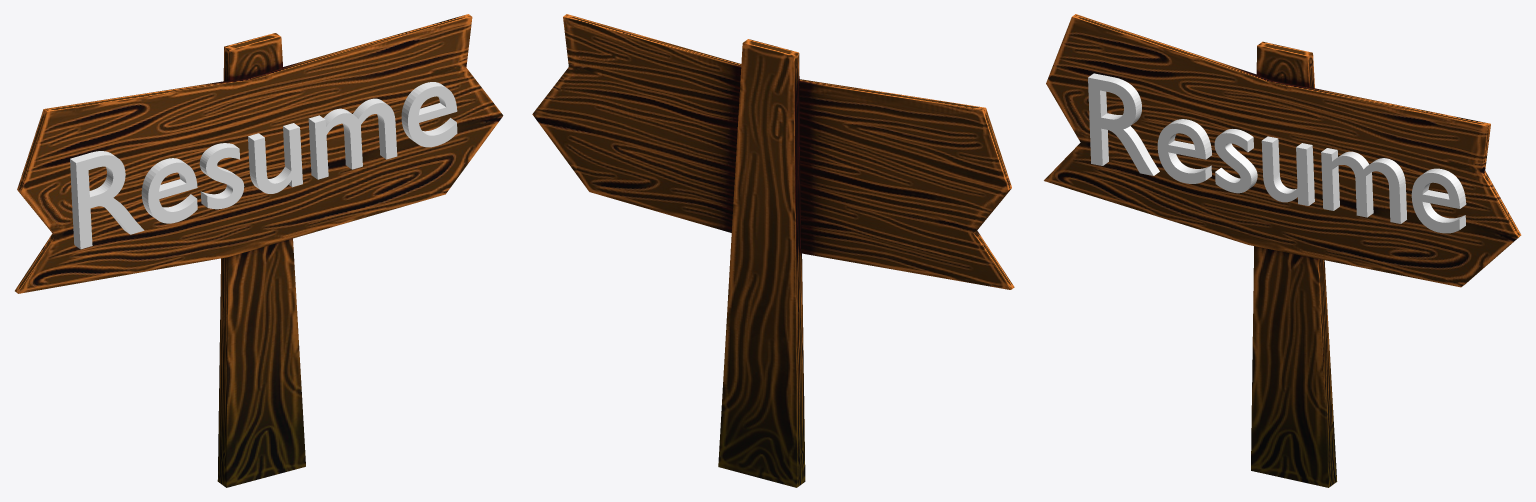
File: resume.glb
3 views of the same model, side by side, from view 1: azimuth 30°, elevation 25°; view 2: azimuth 150°, elevation 25°; view 3: azimuth 330°, elevation 25° (orthographic). The views are drawn at different scales.
Visible parts, largest first — view 1: sign1, Resume; view 2: sign1; view 3: sign1, Resume.
Part boxes in pixels (x1,y1,x2,y2): sign1: (15, 14, 503, 487); Resume: (70, 82, 457, 249); sign1: (532, 14, 1014, 487); sign1: (1044, 14, 1521, 487); Resume: (1088, 73, 1466, 233).
Size of the model in its own units: 3.5 by 3.01 by 0.2189.
2 materials, 1 textured.
